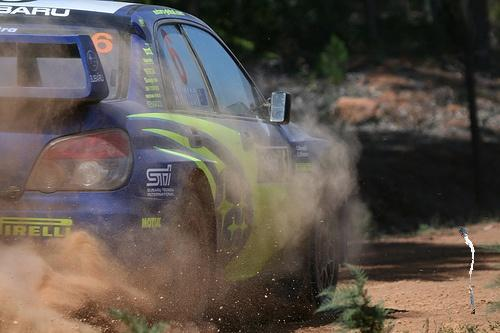tampered: (460, 229, 475, 314)
